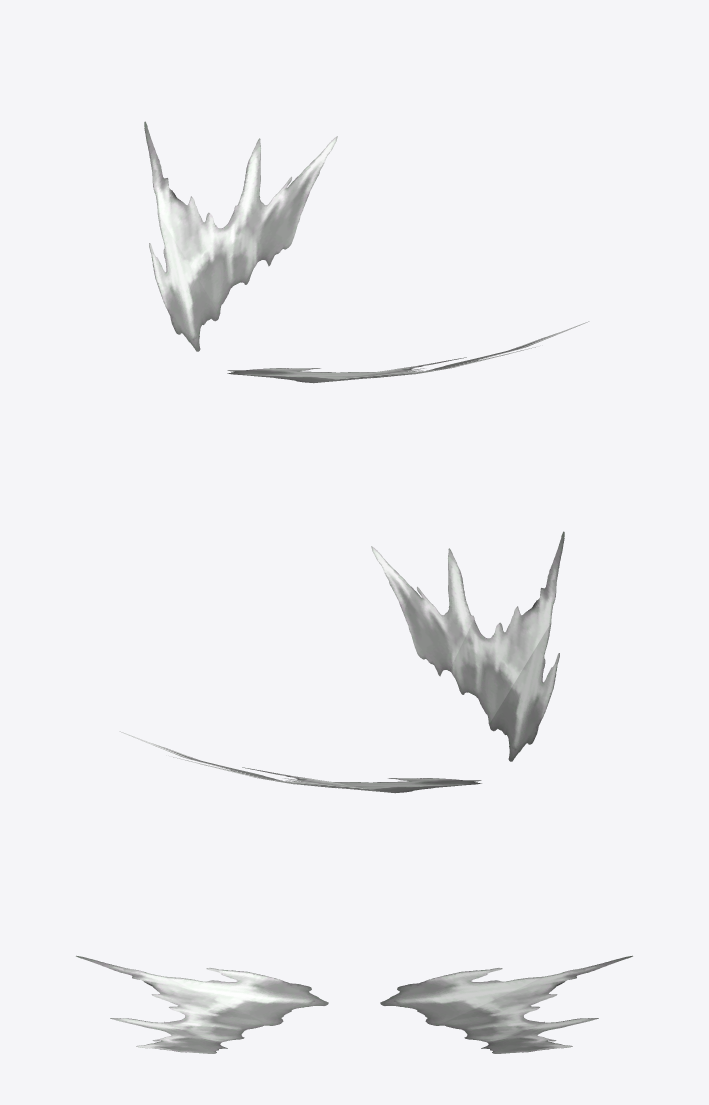
3 renders of one model, top to bottom at view 1: azimuth 30°, elevation 25°; view 2: azimuth 150°, elevation 25°; view 3: azimuth 270°, elevation 25°, orthographic. The views are drawn at different scales.
Visible parts, largest first — view 1: Object001; view 2: Object001; view 3: Object001.
Part boxes in pixels (x1,y1,x2,y2): Object001: (144,121,589,383); Object001: (119,531,564,793); Object001: (76,955,632,1053).
Size of the model in its own units: 112 by 184 by 38.77.
